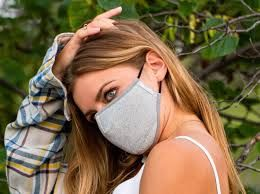with-mask: (59, 32, 177, 158)
